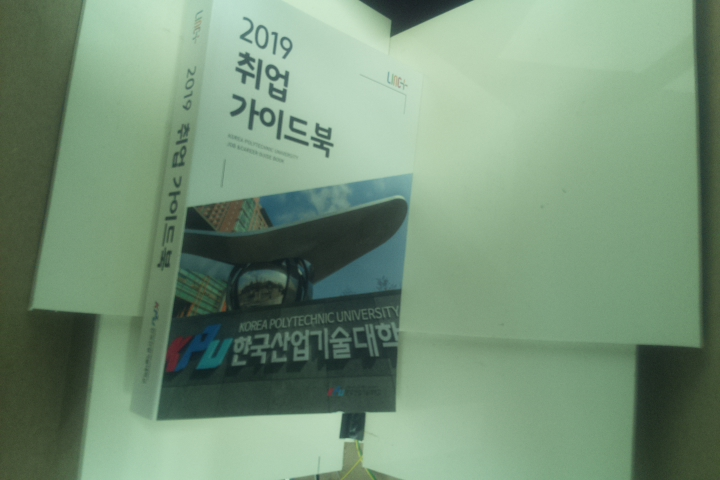book: (128, 1, 427, 425)
